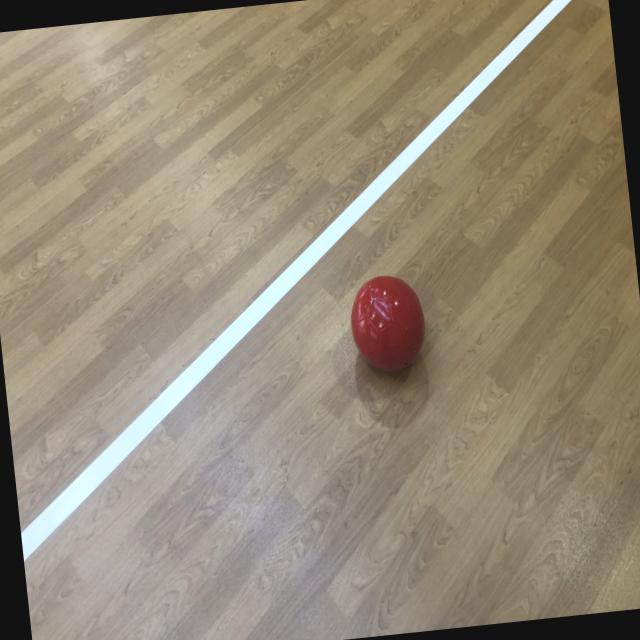red_ball: (346, 271, 429, 377)
